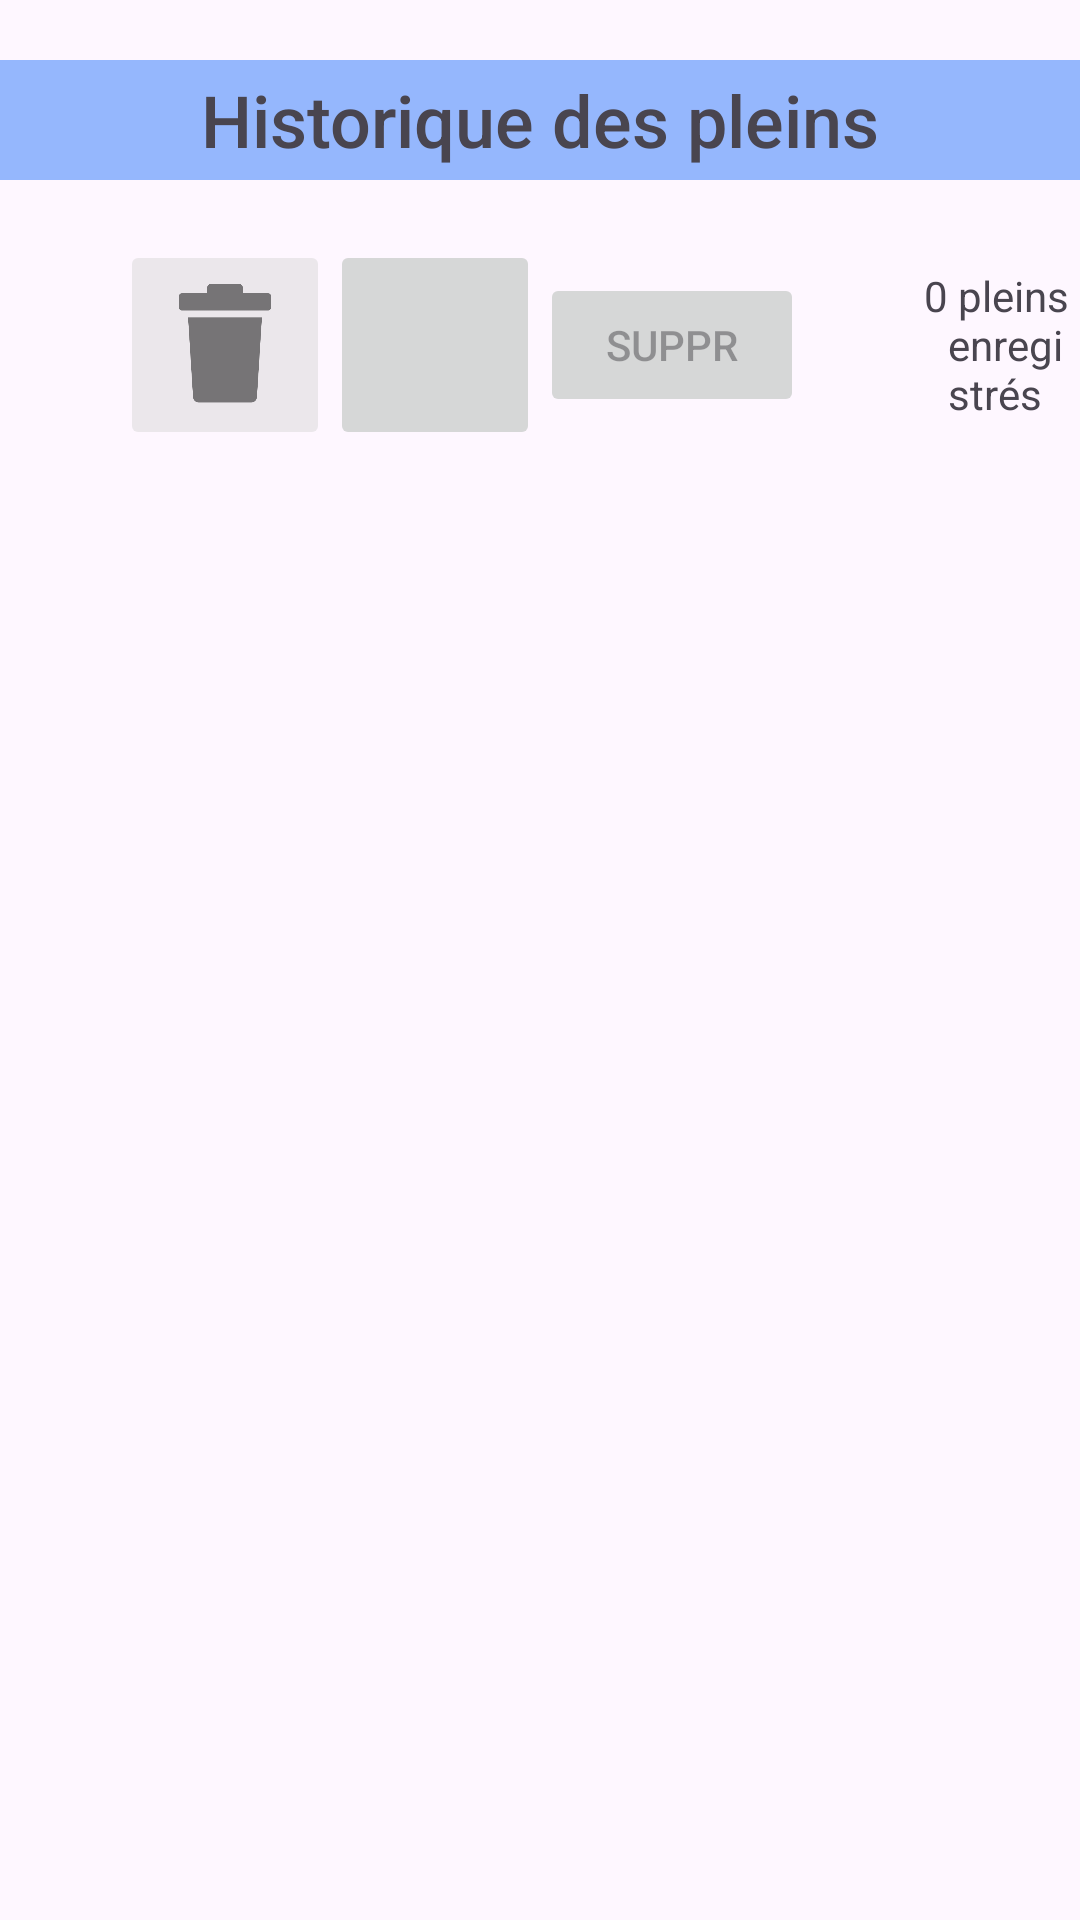

Point at icon controls on the screen. Image size 1080px×1920px, points as [x,y].
trash: [225,343]
